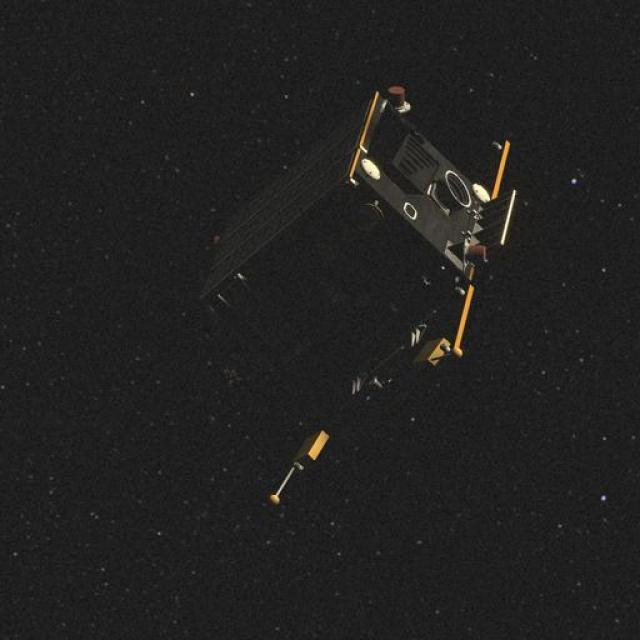proba_2: (188, 39, 511, 500)
